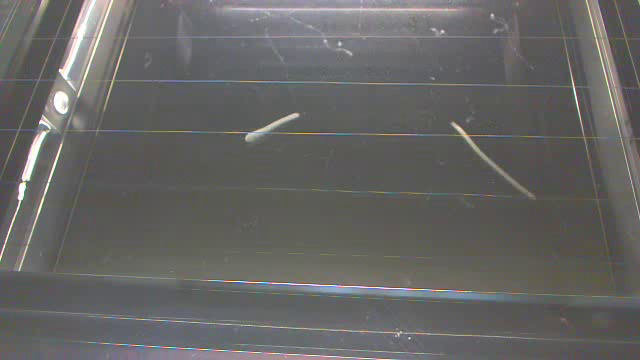alpha: (242, 109, 304, 147)
